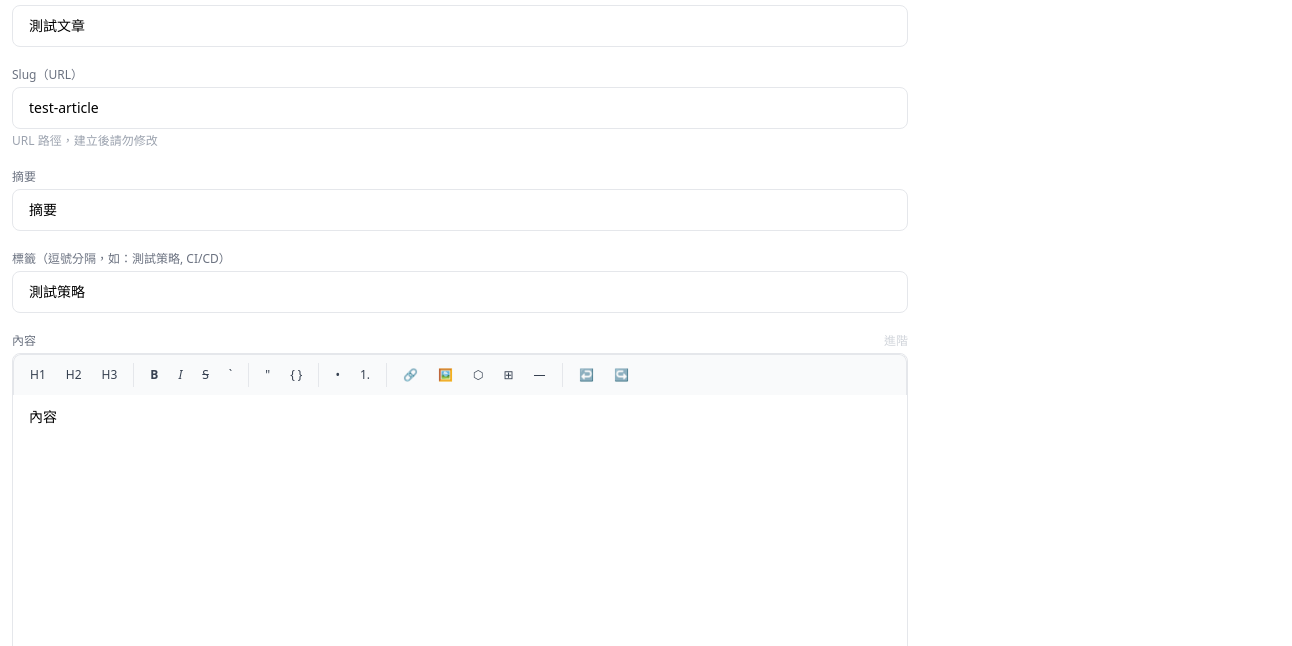
Scenario: AdminPostEdit — auto-save and preview › blocks auto-saving a published post when publish checks fail
Expected: the field showing "測試文章" is shown, x1=12 y1=5 x2=908 y2=47
Clear the field named "slug" below "Slug（URL）": (460, 108) x1=12 y1=87 x2=908 y2=129
Wait 5000 ms
(page scrolled)
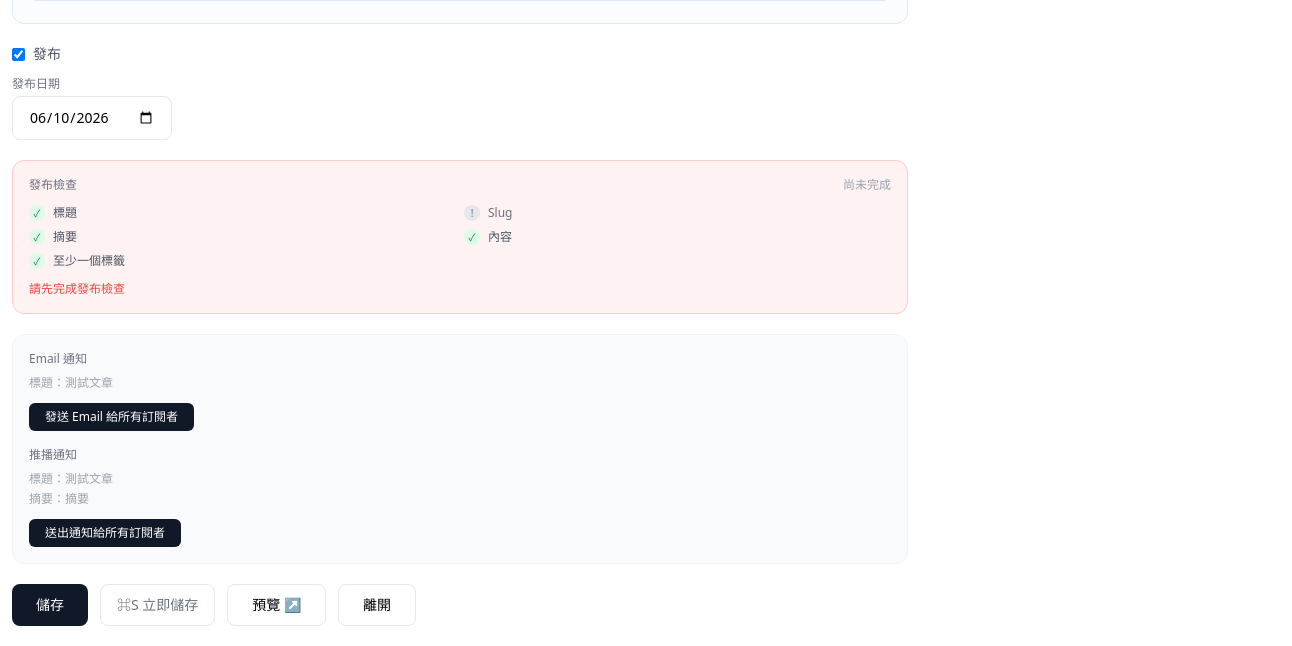
Expected: the text "請先完成發布檢查" is shown, x1=29 y1=280 x2=125 y2=297
